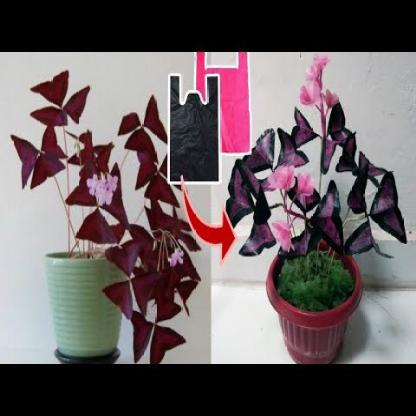Kupu-Kupu: (259, 129, 356, 258), (295, 105, 370, 172), (229, 157, 281, 246), (22, 72, 95, 130), (127, 292, 186, 362), (9, 125, 69, 181), (366, 167, 407, 244), (122, 96, 163, 151)
